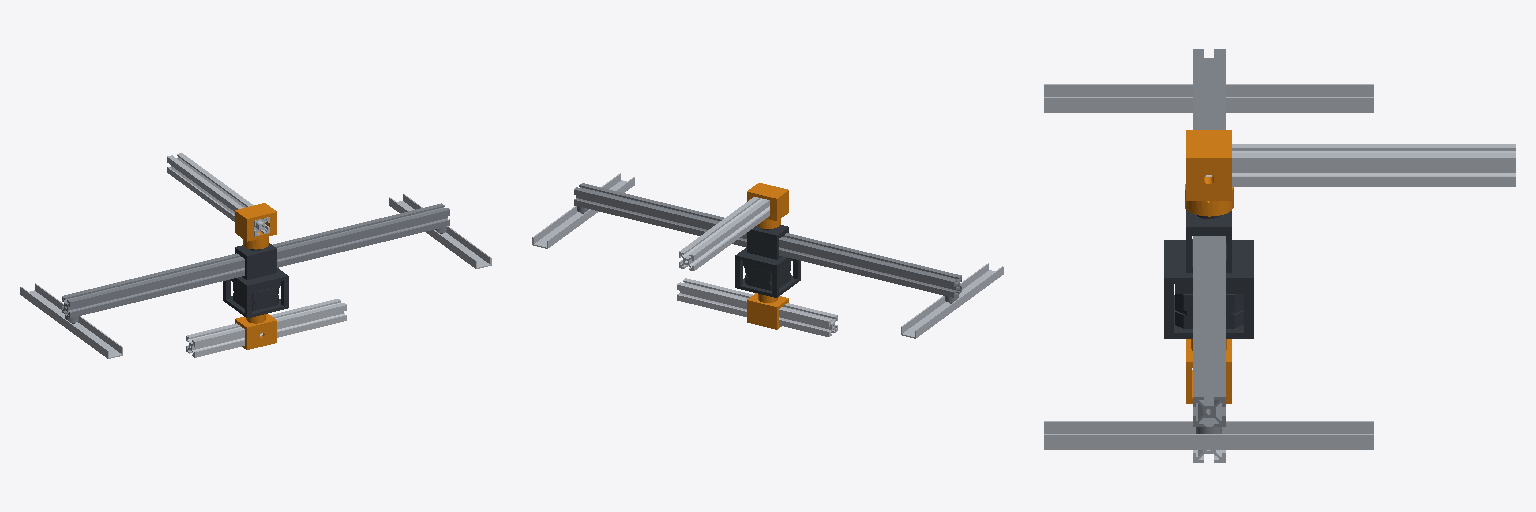
robot.urdf — robot_art_single_layer:
<?xml version="1.0" ?>
<!-- =================================================================================== -->
<!-- |    This document was autogenerated by xacro from single_layer.urdf.xacro        | -->
<!-- |    EDITING THIS FILE BY HAND IS NOT RECOMMENDED                                 | -->
<!-- =================================================================================== -->
<!--
  ELE408 Robot Art - ONE LAYER, matching RobotArtLayer_assembly.step part for part (v3).
  Links (STEP component in brackets):
    bar_above    [Bar200_above]      fixed to the world, where the STEP file has it
    clampA       [ClampA_link]       clamp A + 608 bearing                      joint clampA  : fixed
    motor        [Motor_link]        carriage + cage + pin + encoder + NEMA 17  joint pivot   : continuous, TOP PIVOT (passive bearing)
    support_bar  [Support500_link]   500 mm bar + ball units                    joint support : prismatic along X (passive slide)
    hub          [Hub_link]          flange coupler + clamp B / drive hub       joint joint   : continuous, BOTTOM PIVOT, driven
    next_bar     [NextBar200_reference]                                         joint clampB  : prismatic, radius 0.03-0.17 m
    track_L / track_R [Tracks_frame_reference]   U-channel tracks fixed to the world
  With the bar above fixed, pivot and support both stay at 0 (the motor doesn't move).
  Units m, kg, rad. Meshes are in mm and scaled by 0.001.
  Radius = rest_radius + clampB value (rest_radius is 0 for ROS, 0.07 for the Godot files).
  Build:  xacro single_layer.urdf.xacro > single_layer.urdf
-->
<robot name="robot_art_single_layer">
  <!-- carriage (40 mm) can run until it meets a ball unit -->
  <material name="orange">
    <color rgba="0.88 0.54 0.12 1"/>
  </material>
  <material name="alu">
    <color rgba="0.75 0.77 0.80 1"/>
  </material>
  <material name="dark">
    <color rgba="0.25 0.27 0.30 1"/>
  </material>
  <material name="red">
    <color rgba="0.8 0.1 0.1 1"/>
  </material>
  <material name="steel">
    <color rgba="0.55 0.57 0.60 1"/>
  </material>
  <link name="world"/>
  <joint name="bar_above_fixed" type="fixed">
    <parent link="world"/>
    <child link="bar_above"/>
    <origin xyz="0.49935 0.02633 0.08136"/>
  </joint>
  <link name="bar_above">
    <visual>
      <geometry>
        <mesh filename="../meshes/bar.stl" scale="0.001 0.001 0.001"/>
      </geometry>
      <material name="alu"/>
    </visual>
    <collision>
      <origin xyz="0 0.086 0"/>
      <geometry>
        <box size="0.02 0.2 0.02"/>
      </geometry>
    </collision>
    <inertial>
      <origin xyz="-0.00000 0.08600 0.00000"/>
      <mass value="0.1000"/>
      <inertia ixx="3.3741e-04" ixy="-8.6845e-21" ixz="-3.3719e-10" iyy="8.1483e-06" iyz="-3.5730e-21" izz="3.3741e-04"/>
    </inertial>
  </link>
  <joint name="clampA" type="fixed">
    <parent link="bar_above"/>
    <child link="clampA"/>
    <origin xyz="0 0 0"/>
  </joint>
  <link name="clampA">
    <visual>
      <geometry>
        <mesh filename="../meshes/clampA.stl" scale="0.001 0.001 0.001"/>
      </geometry>
      <material name="orange"/>
    </visual>
    <collision>
      <geometry>
        <box size="0.040 0.028 0.0284"/>
      </geometry>
    </collision>
    <collision>
      <origin xyz="0 0 -0.0207"/>
      <geometry>
        <cylinder length="0.013" radius="0.015"/>
      </geometry>
    </collision>
    <inertial>
      <origin xyz="-0.00011 0.00000 -0.01275"/>
      <mass value="0.0280"/>
      <inertia ixx="6.2275e-06" ixy="-7.0054e-12" ixz="3.6730e-08" iyy="7.7408e-06" iyz="6.4456e-10" izz="4.3962e-06"/>
    </inertial>
  </link>
  <!-- TOP PIVOT: 608 bearing, 23.7 mm below the bar centre line (passive) -->
  <joint name="pivot" type="continuous">
    <parent link="clampA"/>
    <child link="motor"/>
    <origin xyz="0 0 -0.0237"/>
    <axis xyz="0 0 1"/>
    <limit effort="0" velocity="10"/>
    <dynamics damping="0.0" friction="0.002"/>
  </joint>
  <link name="motor">
    <visual>
      <geometry>
        <mesh filename="../meshes/motor.stl" scale="0.001 0.001 0.001"/>
      </geometry>
      <material name="dark"/>
    </visual>
    <collision>
      <origin xyz="0 0 -0.0237"/>
      <geometry>
        <box size="0.040 0.028 0.0304"/>
      </geometry>
    </collision>
    <collision>
      <origin xyz="0 0 -0.0594"/>
      <geometry>
        <box size="0.0543 0.0543 0.041"/>
      </geometry>
    </collision>
    <inertial>
      <origin xyz="0.00009 -0.00000 -0.05783"/>
      <mass value="0.2011"/>
      <inertia ixx="9.6019e-05" ixy="-3.2819e-11" ixz="5.4181e-09" iyy="9.6824e-05" iyz="-4.1809e-09" izz="5.7848e-05"/>
    </inertial>
  </link>
  <joint name="support" type="prismatic">
    <parent link="motor"/>
    <child link="support_bar"/>
    <origin xyz="0 0 0"/>
    <axis xyz="1 0 0"/>
    <!-- value = support bar centre minus carriage centre, along the bar. Passive (effort 0). -->
    <limit effort="0" lower="-0.214" upper="0.214" velocity="1.0"/>
    <dynamics damping="0.0" friction="0.5"/>
  </joint>
  <link name="support_bar">
    <visual>
      <geometry>
        <mesh filename="../meshes/support.stl" scale="0.001 0.001 0.001"/>
      </geometry>
      <material name="steel"/>
    </visual>
    <collision>
      <origin xyz="0 0 -0.0247"/>
      <geometry>
        <box size="0.50 0.02 0.02"/>
      </geometry>
    </collision>
    <collision>
      <origin xyz="-0.242 0 -0.0387"/>
      <geometry>
        <cylinder length="0.008" radius="0.008"/>
      </geometry>
    </collision>
    <collision>
      <origin xyz="0.242 0 -0.0387"/>
      <geometry>
        <cylinder length="0.008" radius="0.008"/>
      </geometry>
    </collision>
    <inertial>
      <origin xyz="0 0 -0.02559"/>
      <mass value="0.2660"/>
      <inertia ixx="2.4046e-05" ixy="0" ixz="0" iyy="6.1592e-03" iyz="0" izz="6.1560e-03"/>
    </inertial>
  </link>
  <joint name="encoder_mount" type="fixed">
    <parent link="motor"/>
    <child link="encoder"/>
    <origin xyz="0 0 -0.0479"/>
  </joint>
  <link name="encoder">
    <inertial>
      <mass value="0.001"/>
      <inertia ixx="1e-9" ixy="0" ixz="0" iyy="1e-9" iyz="0" izz="1e-9"/>
    </inertial>
  </link>
  <!-- BOTTOM PIVOT: motor front face, 75.9 mm below the top pivot, driven by the NEMA 17 -->
  <joint name="joint" type="continuous">
    <parent link="motor"/>
    <child link="hub"/>
    <origin xyz="0 0 -0.0759"/>
    <axis xyz="0 0 1"/>
    <limit effort="0.13" velocity="1.0"/>
    <dynamics damping="0.0"/>
  </joint>
  <link name="hub">
    <visual>
      <geometry>
        <mesh filename="../meshes/hub.stl" scale="0.001 0.001 0.001"/>
      </geometry>
      <material name="orange"/>
    </visual>
    <collision>
      <origin xyz="0 0 -0.0135"/>
      <geometry>
        <cylinder length="0.018" radius="0.011"/>
      </geometry>
    </collision>
    <collision>
      <origin xyz="0 0 -0.0367"/>
      <geometry>
        <box size="0.040 0.028 0.0284"/>
      </geometry>
    </collision>
    <inertial>
      <origin xyz="-0.00000 0.00004 -0.02232"/>
      <mass value="0.0208"/>
      <inertia ixx="5.9366e-06" ixy="3.9488e-16" ixz="-1.5550e-12" iyy="6.2704e-06" iyz="1.3147e-08" izz="2.9028e-06"/>
    </inertial>
  </link>
  <!-- CLAMP B: the next 200 mm bar slides through it along X; value = radius (STEP file shows 0.07) -->
  <joint name="clampB" type="prismatic">
    <parent link="hub"/>
    <child link="next_bar"/>
    <origin rpy="0 0 1.5707963267948966" xyz="0.0 0 -0.0367"/>
    <axis xyz="0 -1 0"/>
    <limit effort="20" lower="0.03" upper="0.17" velocity="0.05"/>
    <dynamics damping="0.5"/>
  </joint>
  <link name="next_bar">
    <visual>
      <geometry>
        <mesh filename="../meshes/bar.stl" scale="0.001 0.001 0.001"/>
      </geometry>
      <material name="alu"/>
    </visual>
    <collision>
      <origin xyz="0 0.086 0"/>
      <geometry>
        <box size="0.02 0.2 0.02"/>
      </geometry>
    </collision>
    <inertial>
      <origin xyz="-0.00000 0.08600 0.00000"/>
      <mass value="0.1000"/>
      <inertia ixx="3.3741e-04" ixy="-8.6845e-21" ixz="-3.3719e-10" iyy="8.1483e-06" iyz="-3.5730e-21" izz="3.3741e-04"/>
    </inertial>
  </link>
  <joint name="track_L_fixed" type="fixed">
    <parent link="world"/>
    <child link="track_L"/>
    <origin xyz="0.25735 0.02633 0.009960000000000004"/>
  </joint>
  <link name="track_L">
    <visual>
      <origin xyz="0 0 -0.00075"/>
      <geometry>
        <box size="0.020 0.2 0.0015"/>
      </geometry>
      <material name="alu"/>
    </visual>
    <visual>
      <origin xyz="-0.00925 0 0.0035"/>
      <geometry>
        <box size="0.0015 0.2 0.010"/>
      </geometry>
      <material name="alu"/>
    </visual>
    <visual>
      <origin xyz="0.00925 0 0.0035"/>
      <geometry>
        <box size="0.0015 0.2 0.010"/>
      </geometry>
      <material name="alu"/>
    </visual>
  </link>
  <joint name="track_R_fixed" type="fixed">
    <parent link="world"/>
    <child link="track_R"/>
    <origin xyz="0.74135 0.02633 0.009960000000000004"/>
  </joint>
  <link name="track_R">
    <visual>
      <origin xyz="0 0 -0.00075"/>
      <geometry>
        <box size="0.020 0.2 0.0015"/>
      </geometry>
      <material name="alu"/>
    </visual>
    <visual>
      <origin xyz="-0.00925 0 0.0035"/>
      <geometry>
        <box size="0.0015 0.2 0.010"/>
      </geometry>
      <material name="alu"/>
    </visual>
    <visual>
      <origin xyz="0.00925 0 0.0035"/>
      <geometry>
        <box size="0.0015 0.2 0.010"/>
      </geometry>
      <material name="alu"/>
    </visual>
  </link>
</robot>

--- Facts derived from the render (not from the file) ---
The picture shows the robot from 3 angles, left to right: view 1: azimuth 30°, elevation 25°; view 2: azimuth 150°, elevation 25°; view 3: azimuth 270°, elevation 25°; orthographic projection.
Model robot_art_single_layer with 10 links and 9 joints (2 continuous, 2 prismatic, 5 fixed), rooted at world, posed joints at zero except 1 at the middle of their limits (clampB = 0.1).
Links seen in each view (by area): view 1: support_bar, motor, next_bar, bar_above, track_L, track_R, clampA, hub; view 2: support_bar, motor, next_bar, bar_above, track_L, track_R, clampA, hub; view 3: bar_above, track_R, support_bar, track_L, motor, clampA, hub.
Boxes of the visible links, left/top/right/bottom form: support_bar: left=62, top=203, right=449, bottom=323; motor: left=223, top=243, right=288, bottom=317; next_bar: left=186, top=299, right=346, bottom=357; bar_above: left=167, top=153, right=269, bottom=236; track_L: left=20, top=283, right=122, bottom=358; track_R: left=389, top=194, right=491, bottom=268; clampA: left=235, top=203, right=276, bottom=249; hub: left=235, top=314, right=276, bottom=349; support_bar: left=574, top=183, right=961, bottom=303; motor: left=735, top=225, right=800, bottom=297; next_bar: left=677, top=278, right=837, bottom=336; bar_above: left=679, top=197, right=769, bottom=270; track_L: left=901, top=263, right=1003, bottom=338; track_R: left=532, top=173, right=634, bottom=248; clampA: left=747, top=183, right=788, bottom=228; hub: left=747, top=293, right=788, bottom=329; bar_above: left=1206, top=144, right=1515, bottom=186; track_R: left=1044, top=421, right=1373, bottom=449; support_bar: left=1193, top=49, right=1225, bottom=433; track_L: left=1044, top=84, right=1373, bottom=112; motor: left=1164, top=210, right=1253, bottom=338; clampA: left=1185, top=130, right=1233, bottom=216; hub: left=1186, top=339, right=1231, bottom=403.
Bounding box of the posed robot: 0.504 × 0.286 × 0.1647 m (x, y, z).
Meshes: 5 distinct files referenced, 6 mesh visuals loaded (5 binary STL).
